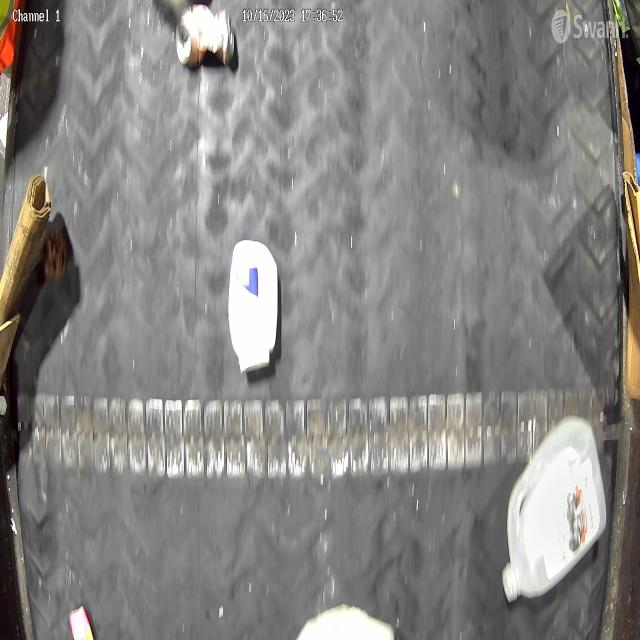can: (177, 0, 233, 78)
milk_jug: (495, 416, 611, 601)
